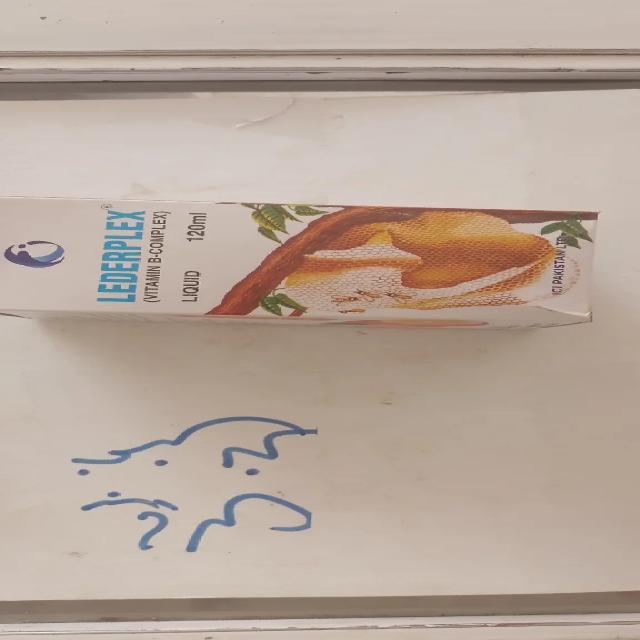drug-name: (94, 207, 148, 304)
